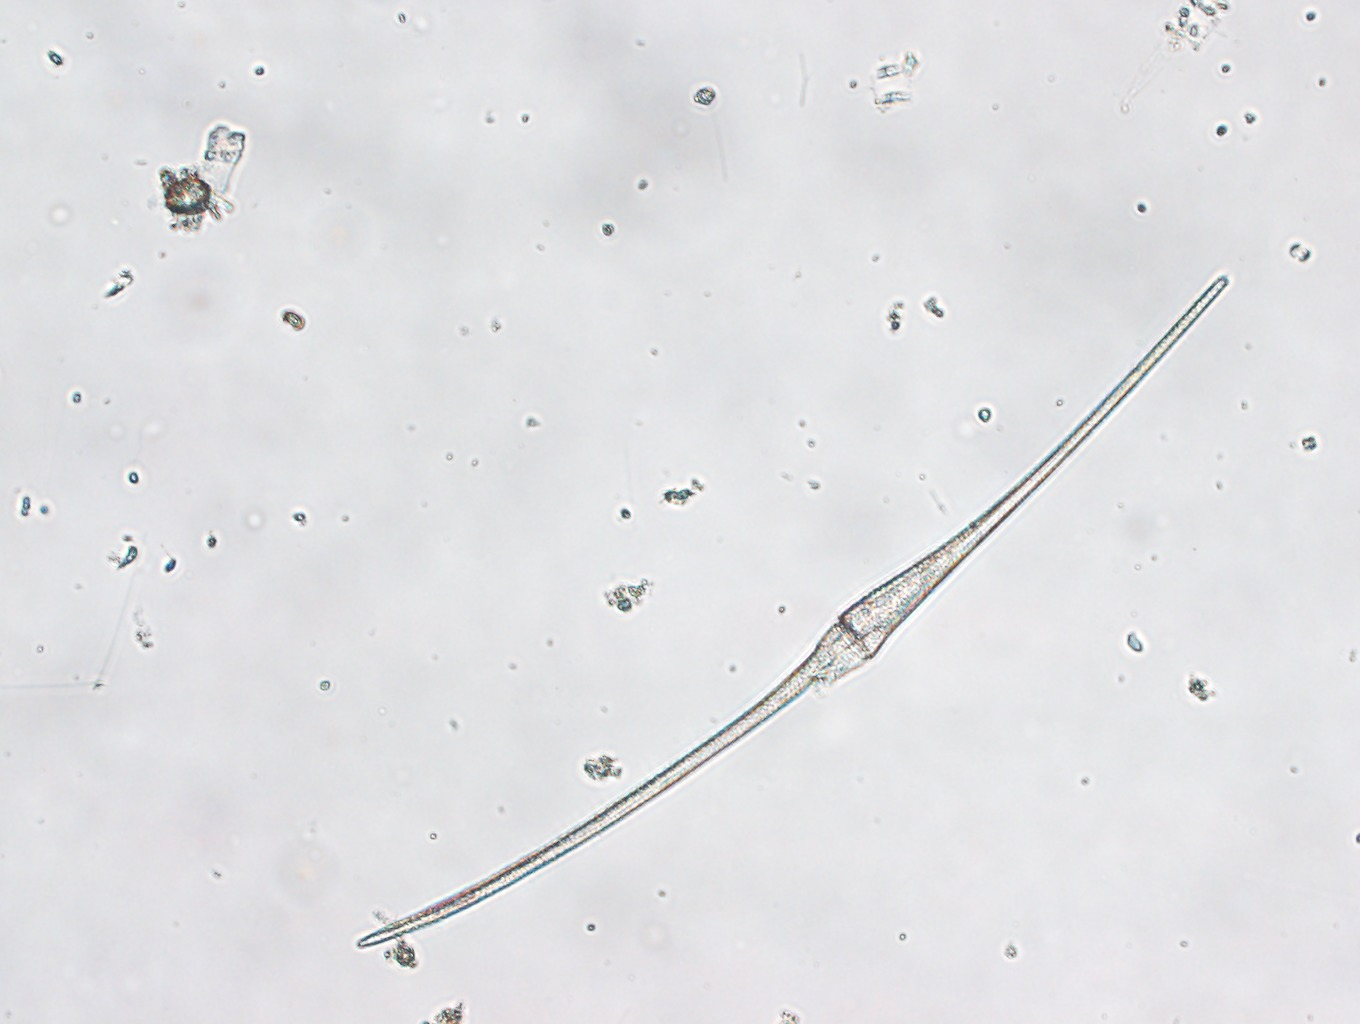ceratium fusus: (346, 262, 1232, 962)
